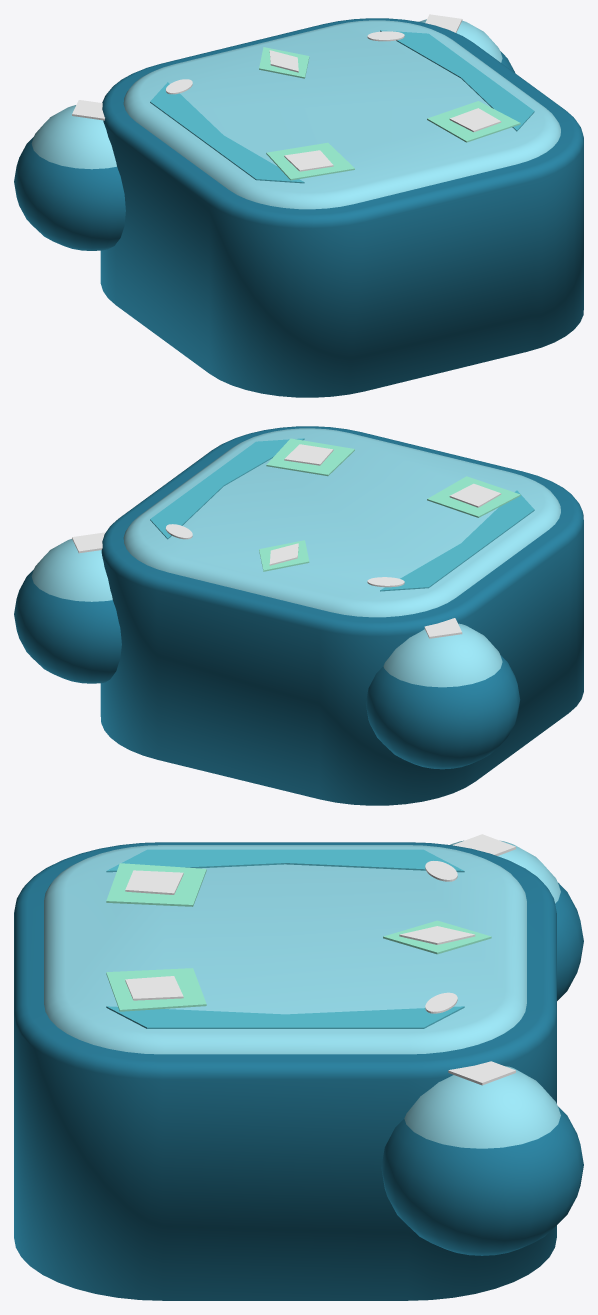
File: body_estampa_diamante.fbx
3 views of the same model, one above another, from view 1: azimuth 30°, elevation 25°; view 2: azimuth 150°, elevation 25°; view 3: azimuth 270°, elevation 25° (orthographic). The views are drawn at different scales.
Parts seen in each view (by area): view 1: body_estampa_diamante_corpo, body_estampa_diamante_mao_esq, body_estampa_diamante_mao; view 2: body_estampa_diamante_corpo, body_estampa_diamante_mao_esq, body_estampa_diamante_mao; view 3: body_estampa_diamante_corpo, body_estampa_diamante_mao, body_estampa_diamante_mao_esq.
Boxes of the visible parts, bbox=[...] form: body_estampa_diamante_corpo: bbox=[100, 18, 583, 397]; body_estampa_diamante_mao_esq: bbox=[14, 100, 125, 250]; body_estampa_diamante_mao: bbox=[419, 14, 514, 72]; body_estampa_diamante_corpo: bbox=[100, 426, 583, 805]; body_estampa_diamante_mao_esq: bbox=[366, 618, 520, 769]; body_estampa_diamante_mao: bbox=[14, 532, 121, 683]; body_estampa_diamante_corpo: bbox=[14, 842, 556, 1300]; body_estampa_diamante_mao: bbox=[381, 1061, 583, 1255]; body_estampa_diamante_mao_esq: bbox=[450, 834, 583, 1000].
Size of the model in its own units: 5.4 by 2.05 by 4.2.
Materials: 1 (1 with a texture image).
